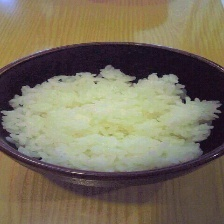rice: (2, 63, 223, 172)
